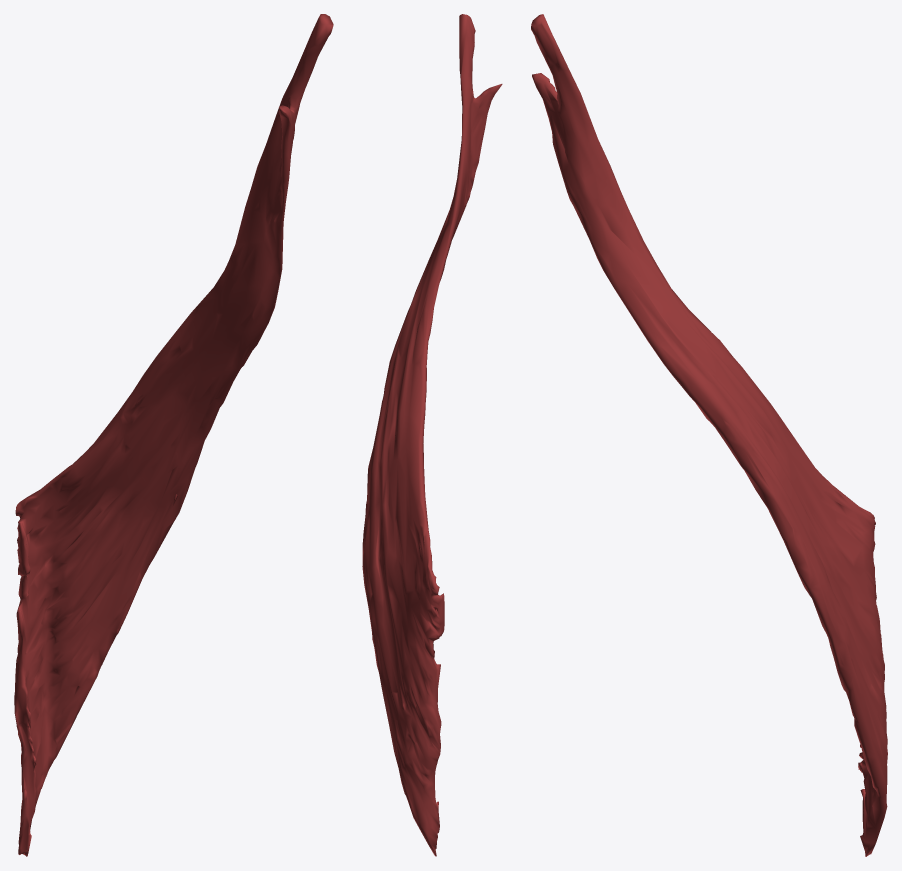
The model's file is splenius-colli-muscle-l.glb.
3 renders of one model, left to right at view 1: azimuth 30°, elevation 25°; view 2: azimuth 150°, elevation 25°; view 3: azimuth 270°, elevation 25°, orthographic. The views are drawn at different scales.
Parts seen in each view (by area): view 1: Splenius colli muscle.l; view 2: Splenius colli muscle.l; view 3: Splenius colli muscle.l.
Boxes of the visible parts, bbox=[...] form: Splenius colli muscle.l: bbox=[14, 14, 333, 856]; Splenius colli muscle.l: bbox=[362, 14, 502, 856]; Splenius colli muscle.l: bbox=[531, 14, 887, 856].
Size of the model in its own units: 0.0437 by 0.2576 by 0.0923.
